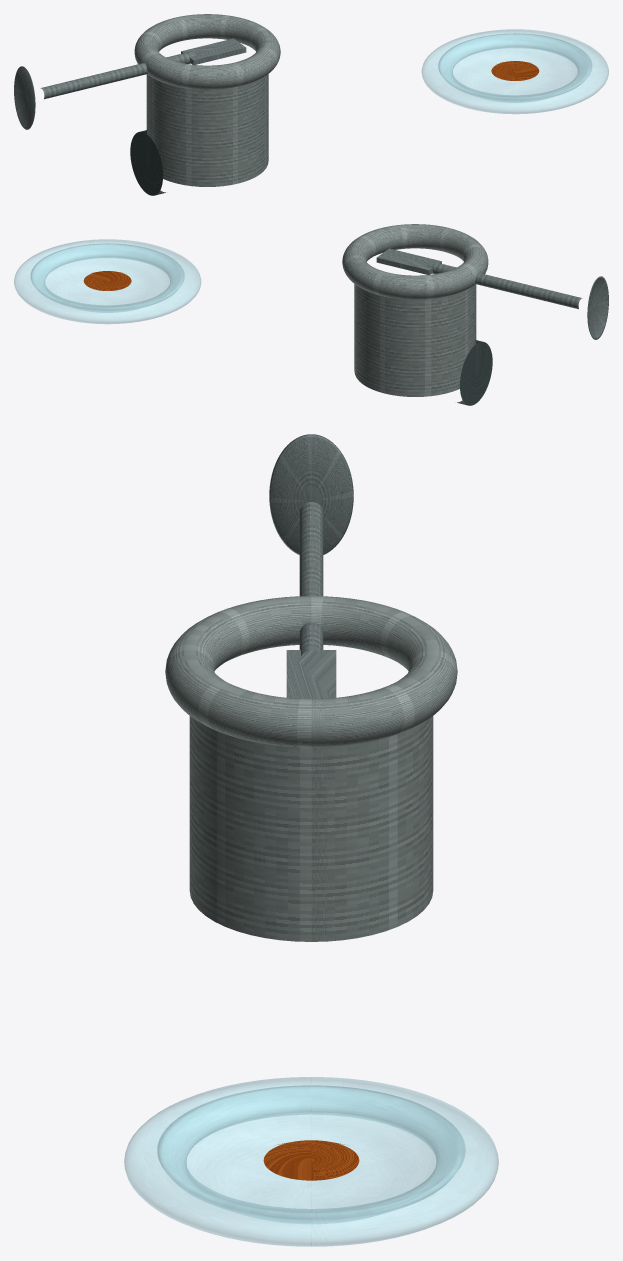
The model's file is alat-25.glb.
3 renders of one model, top to bottom at view 1: azimuth 30°, elevation 25°; view 2: azimuth 150°, elevation 25°; view 3: azimuth 270°, elevation 25°, orthographic. The views are drawn at different scales.
Parts seen in each view (by area): view 1: cylinder-0, torus-3, watchGlass-4, torus-1, reagentLid-2, toolPart-7, toolPart-9, toolPart-8, destinationSolidMound-6; view 2: cylinder-0, torus-3, watchGlass-4, torus-1, reagentLid-2, toolPart-7, toolPart-9, toolPart-8, destinationSolidMound-6; view 3: cylinder-0, torus-3, watchGlass-4, torus-1, toolPart-9, destinationSolidMound-6, toolPart-7, toolPart-8.
Boxes of the visible parts, x1,y1,x2,y2 form: cylinder-0: (146,74,268,186); torus-3: (421,29,608,114); watchGlass-4: (438,33,591,102); torus-1: (134,14,280,89); reagentLid-2: (130,130,165,195); toolPart-7: (40,51,195,99); toolPart-9: (14,66,35,129); toolPart-8: (181,38,246,64); destinationSolidMound-6: (491,61,539,80); cylinder-0: (354,284,476,396); torus-3: (14,239,201,324); watchGlass-4: (31,243,184,312); torus-1: (342,224,488,299); reagentLid-2: (457,340,492,405); toolPart-7: (427,261,582,309); toolPart-9: (587,276,608,339); toolPart-8: (376,248,441,274); destinationSolidMound-6: (83,271,131,290); cylinder-0: (189,716,433,941); torus-3: (124,1077,498,1246); watchGlass-4: (157,1085,465,1223); torus-1: (165,596,457,747); toolPart-9: (269,434,353,554); destinationSolidMound-6: (263,1140,359,1180); toolPart-7: (299,502,323,655); toolPart-8: (286,650,336,698).
Size of the model in its own units: 8.46 by 2.21 by 2.4.
Materials: 32 (32 with a texture image).
